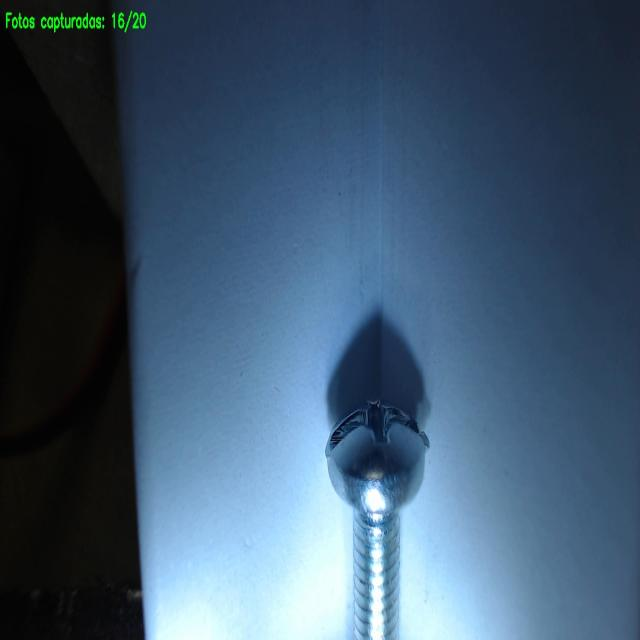vastago: (354, 511, 398, 639)
